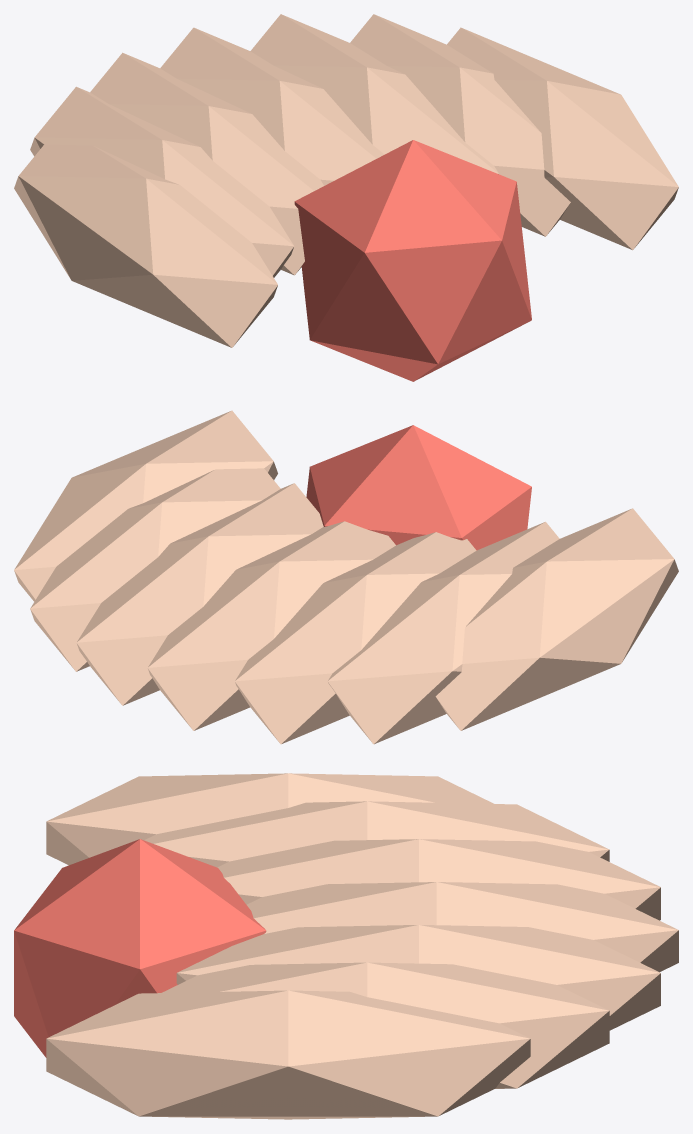
File: shell_scallop.glb
The picture shows the model from 3 angles, top to bottom: view 1: azimuth 30°, elevation 25°; view 2: azimuth 150°, elevation 25°; view 3: azimuth 270°, elevation 25°; orthographic projection. The views are drawn at different scales.
Parts seen in each view (by area): view 1: shell_scallop; view 2: shell_scallop; view 3: shell_scallop.
Boxes of the visible parts, x1=… form: shell_scallop: x1=14, y1=14, x2=678, y2=381; shell_scallop: x1=14, y1=410, x2=678, y2=744; shell_scallop: x1=14, y1=773, x2=678, y2=1119.
Size of the model in its own units: 0.2376 by 0.1 by 0.2242.
